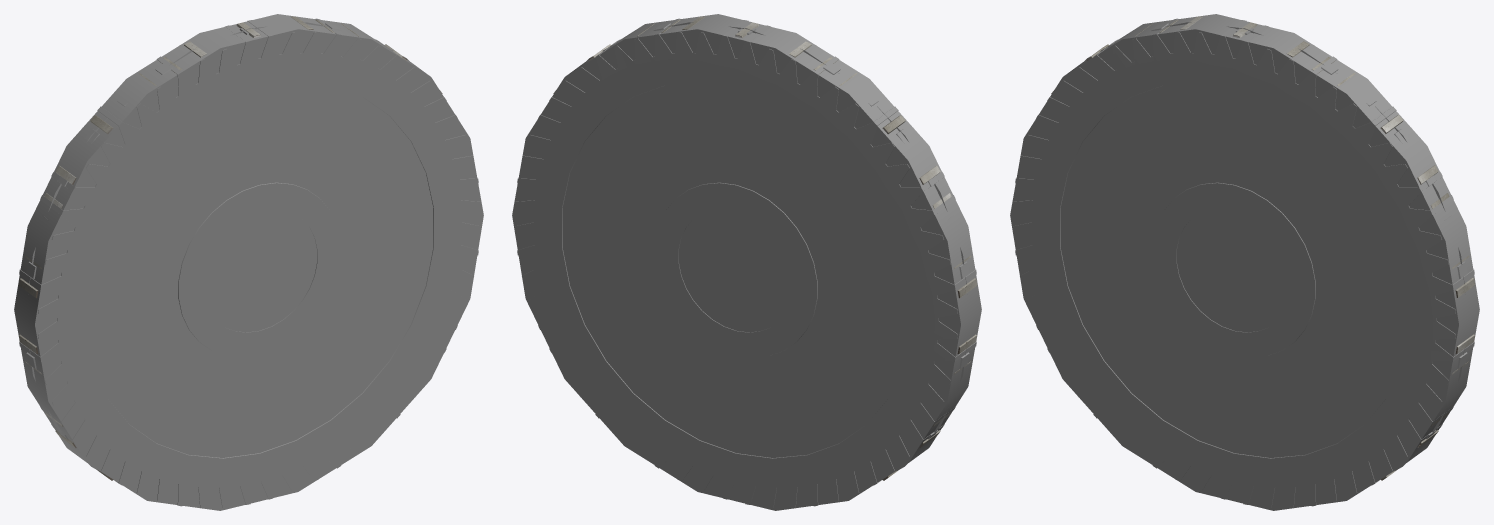
Rendered from Gears_Saws.FBX.
The picture shows the model from 3 angles, left to right: view 1: azimuth 30°, elevation 25°; view 2: azimuth 150°, elevation 25°; view 3: azimuth 330°, elevation 25°; orthographic projection.
Parts seen in each view (by area): view 1: coll_Gear, gear A, gear B, coll_Saw, gear C; view 2: coll_Gear, gear A, gear B, coll_Saw, gear C; view 3: coll_Gear, gear A, gear B, gear C.
Boxes of the visible parts, left/top/right/bottom form: coll_Gear: left=14, top=14, right=483, bottom=510; gear A: left=19, top=18, right=480, bottom=508; gear B: left=19, top=16, right=442, bottom=480; coll_Saw: left=22, top=20, right=325, bottom=456; gear C: left=26, top=23, right=411, bottom=470; coll_Gear: left=512, top=14, right=981, bottom=510; gear A: left=515, top=18, right=976, bottom=508; gear B: left=553, top=16, right=976, bottom=480; coll_Saw: left=575, top=20, right=971, bottom=424; gear C: left=584, top=23, right=969, bottom=470; coll_Gear: left=1010, top=14, right=1479, bottom=510; gear A: left=1013, top=18, right=1474, bottom=508; gear B: left=1051, top=16, right=1474, bottom=480; gear C: left=1082, top=23, right=1467, bottom=470.
Bounding box in the file's own units: 27.33 × 27.22 × 2.26.
